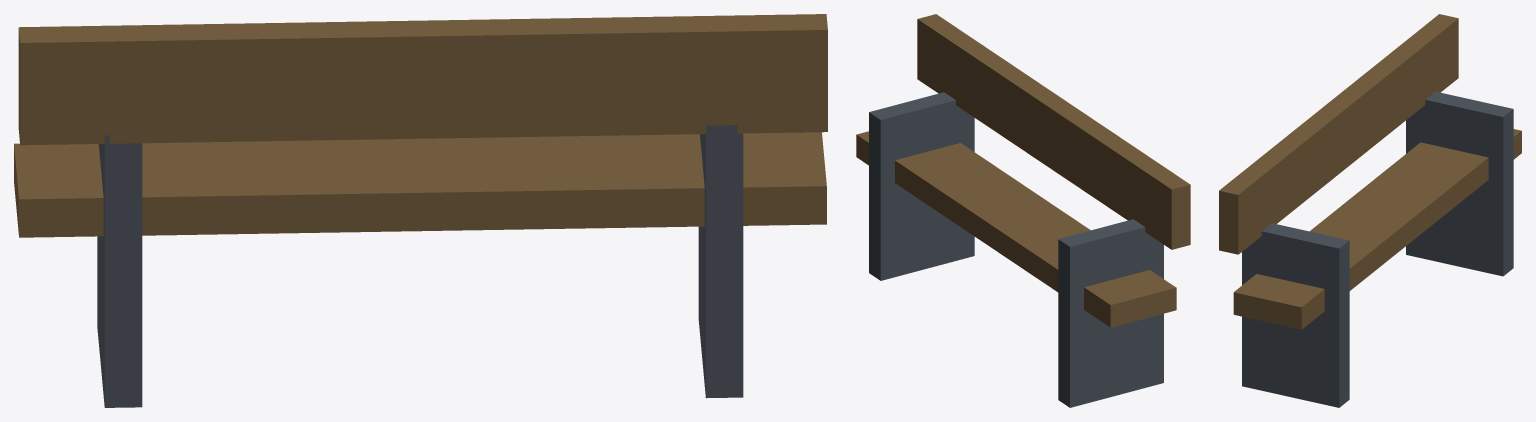
The model's file is cell--405_0.glb.
3 views of the same model, side by side, from view 1: azimuth 30°, elevation 25°; view 2: azimuth 150°, elevation 25°; view 3: azimuth 270°, elevation 25° (orthographic). The views are drawn at different scales.
Visible parts, largest first — view 1: cell--405_0; view 2: cell--405_0; view 3: cell--405_0.
Part boxes in pixels (<box>): cell--405_0: <box>14,14,827,407</box>; cell--405_0: <box>856,14,1190,407</box>; cell--405_0: <box>1219,14,1521,407</box>.
Bounding box in the file's own units: 0.8401 × 0.43 × 0.5513.
